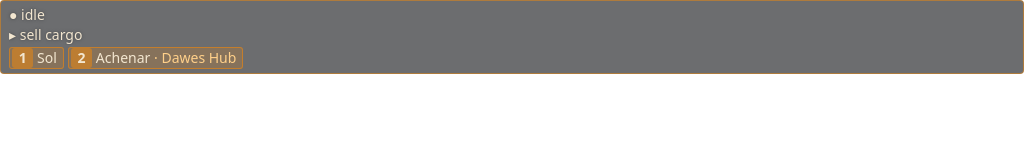
Test: status strip › shows the pinned line and the chips in strip mode only
expect the text "▸ sell cargo" is shown: met, box [9, 25, 82, 44]
What coordinates should you click on to do the following:
click the button with class "chip" showing "2 Achenar · Dawes Hub"
I would click on:
 (156, 58)
Its box is [68, 47, 243, 69].
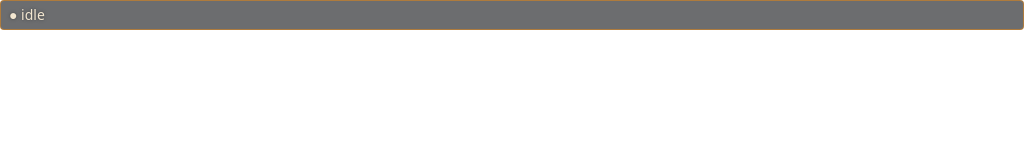
expect the element with class "chips" is gone: met
